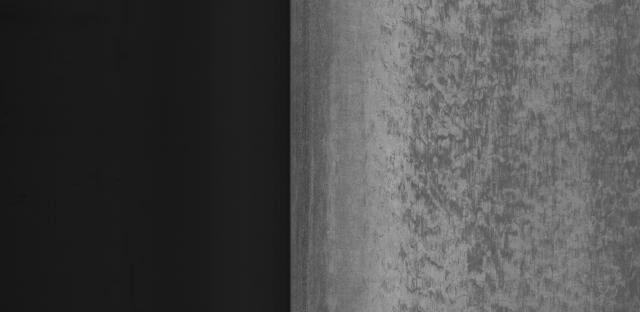silk_spot: (377, 18, 640, 296)
